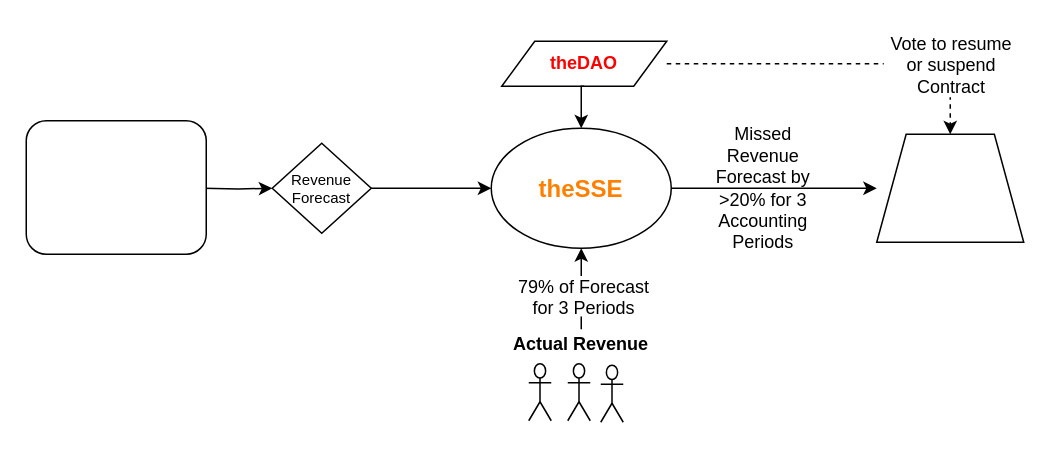
Image size: 1050x449. Some labels were removed from this diagram. The centre of each missing label's shape, as x and y in pixels:
"Contract Suspended Payments Stopped" belongs at [949,187].
"Project Owner a. Legal Entity b. Virtual Entity c. Individual" belongs at [115,186].
